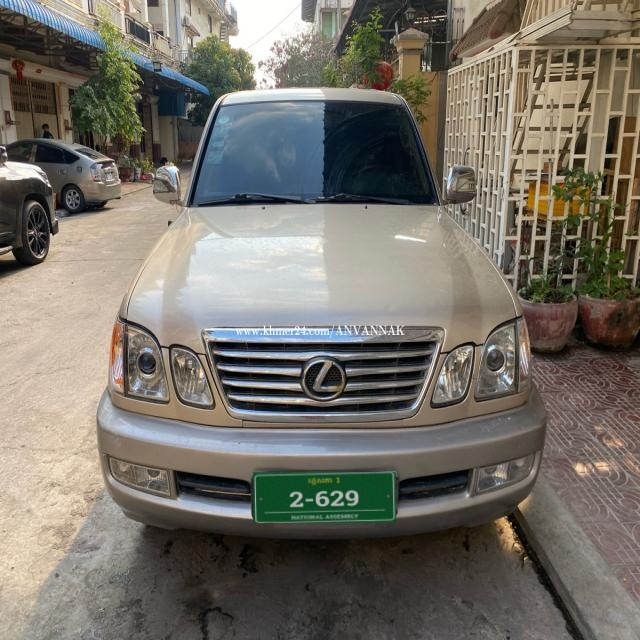Plate Number: (254, 473, 396, 523)
